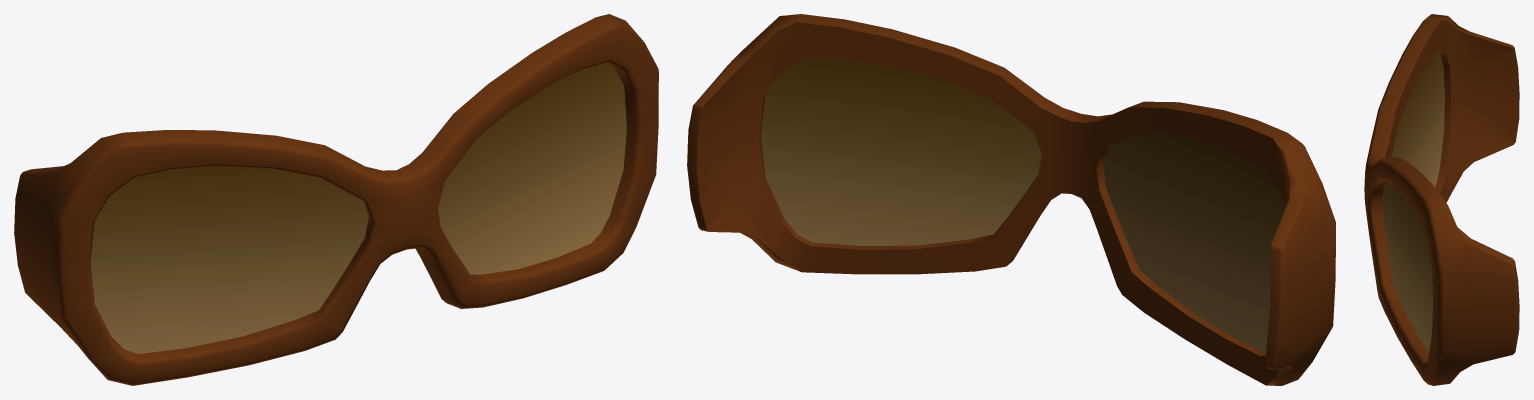
The model's file is AccessoryGlassButterfly2.glb.
3 views of the same model, side by side, from view 1: azimuth 30°, elevation 25°; view 2: azimuth 150°, elevation 25°; view 3: azimuth 270°, elevation 25° (orthographic). The views are drawn at different scales.
Visible parts, largest first — view 1: AccessoryAlpha__mAccessoryAlpha, Accessory__mAccessory; view 2: AccessoryAlpha__mAccessoryAlpha, Accessory__mAccessory; view 3: Accessory__mAccessory, AccessoryAlpha__mAccessoryAlpha.
Part boxes in pixels (x1,y1,x2,y2): AccessoryAlpha__mAccessoryAlpha: (90,63,626,353); Accessory__mAccessory: (14,14,658,385); AccessoryAlpha__mAccessoryAlpha: (761,59,1286,352); Accessory__mAccessory: (687,14,1335,385); Accessory__mAccessory: (1364,14,1519,385); AccessoryAlpha__mAccessoryAlpha: (1382,52,1444,352).
Size of the model in its own units: 6.25 by 2.45 by 1.83.
Materials: 2 (2 with a texture image).
